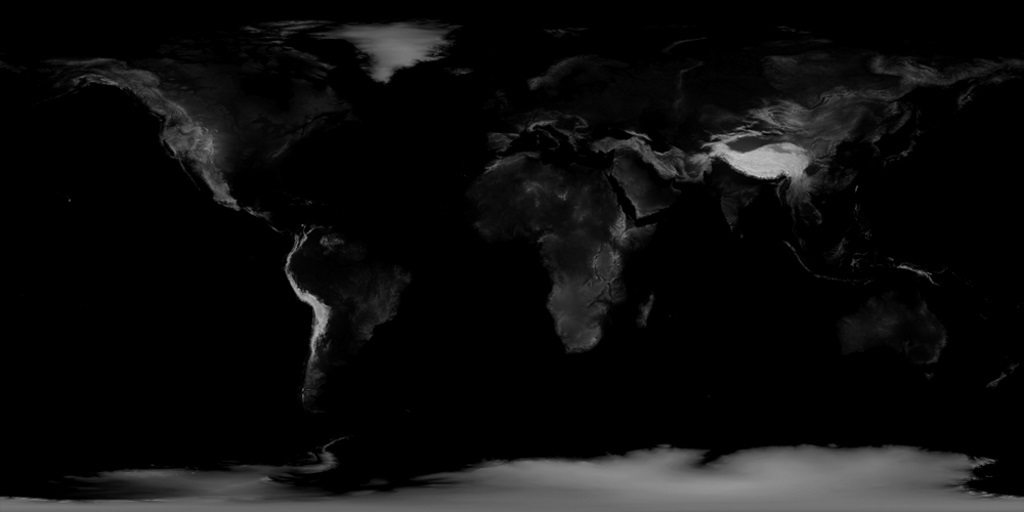

This screenshot's page, from the dashboard's own definition file:
{"tool":"powerbi","page":{"name":"Page 1","canvas":[960,720],"ordinal":0},"visuals":[{"type":"tableEx","fields":{"Values":["simplelatlong.city","simplelatlong.country","simplelatlong.lat","simplelatlong.lng","Sum(simplelatlong.pop)"]},"box":[472,0,488,720],"z":2},{"type":"threejsE0E480FFE18F46FE90AD2FA3A0D80C5F","fields":{"latitude":["simplelatlong.lat"],"longitude":["simplelatlong.lng"],"value":["simplelatlong.pop"],"name":["simplelatlong.city"]},"box":[16,144,448,448],"z":2}]}

Visuals, with their boxes on the page's 960x720 design canvas (x1, y1, x2, y2). These are canvas units, not pixel positions in the 1024x512 screenshot, which may show the page scaled, cropped or inside an application window:
tableEx - simplelatlong.city x simplelatlong.country: rect(472, 0, 960, 720)
threejsE0E480FFE18F46FE90AD2FA3A0D80C5F - simplelatlong.lat x simplelatlong.lng: rect(16, 144, 464, 592)
